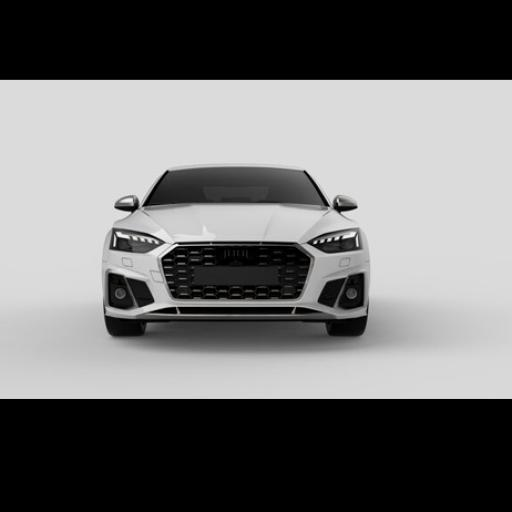sedan: (104, 165, 369, 335)
